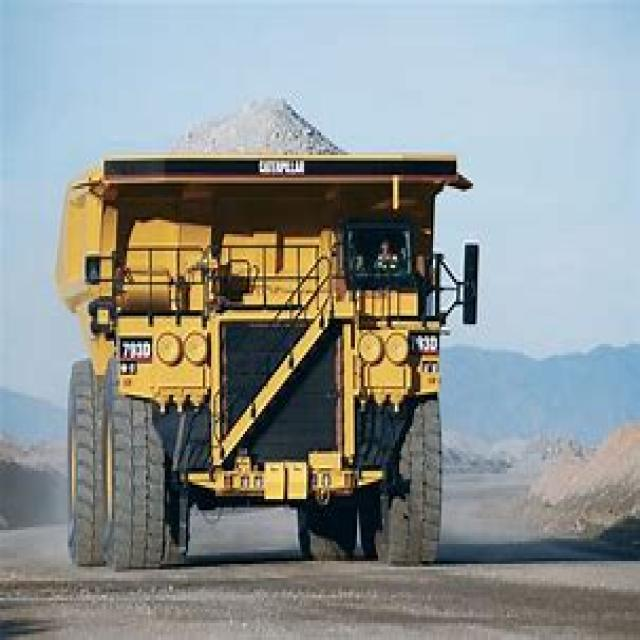dump_truck: (42, 85, 475, 592)
